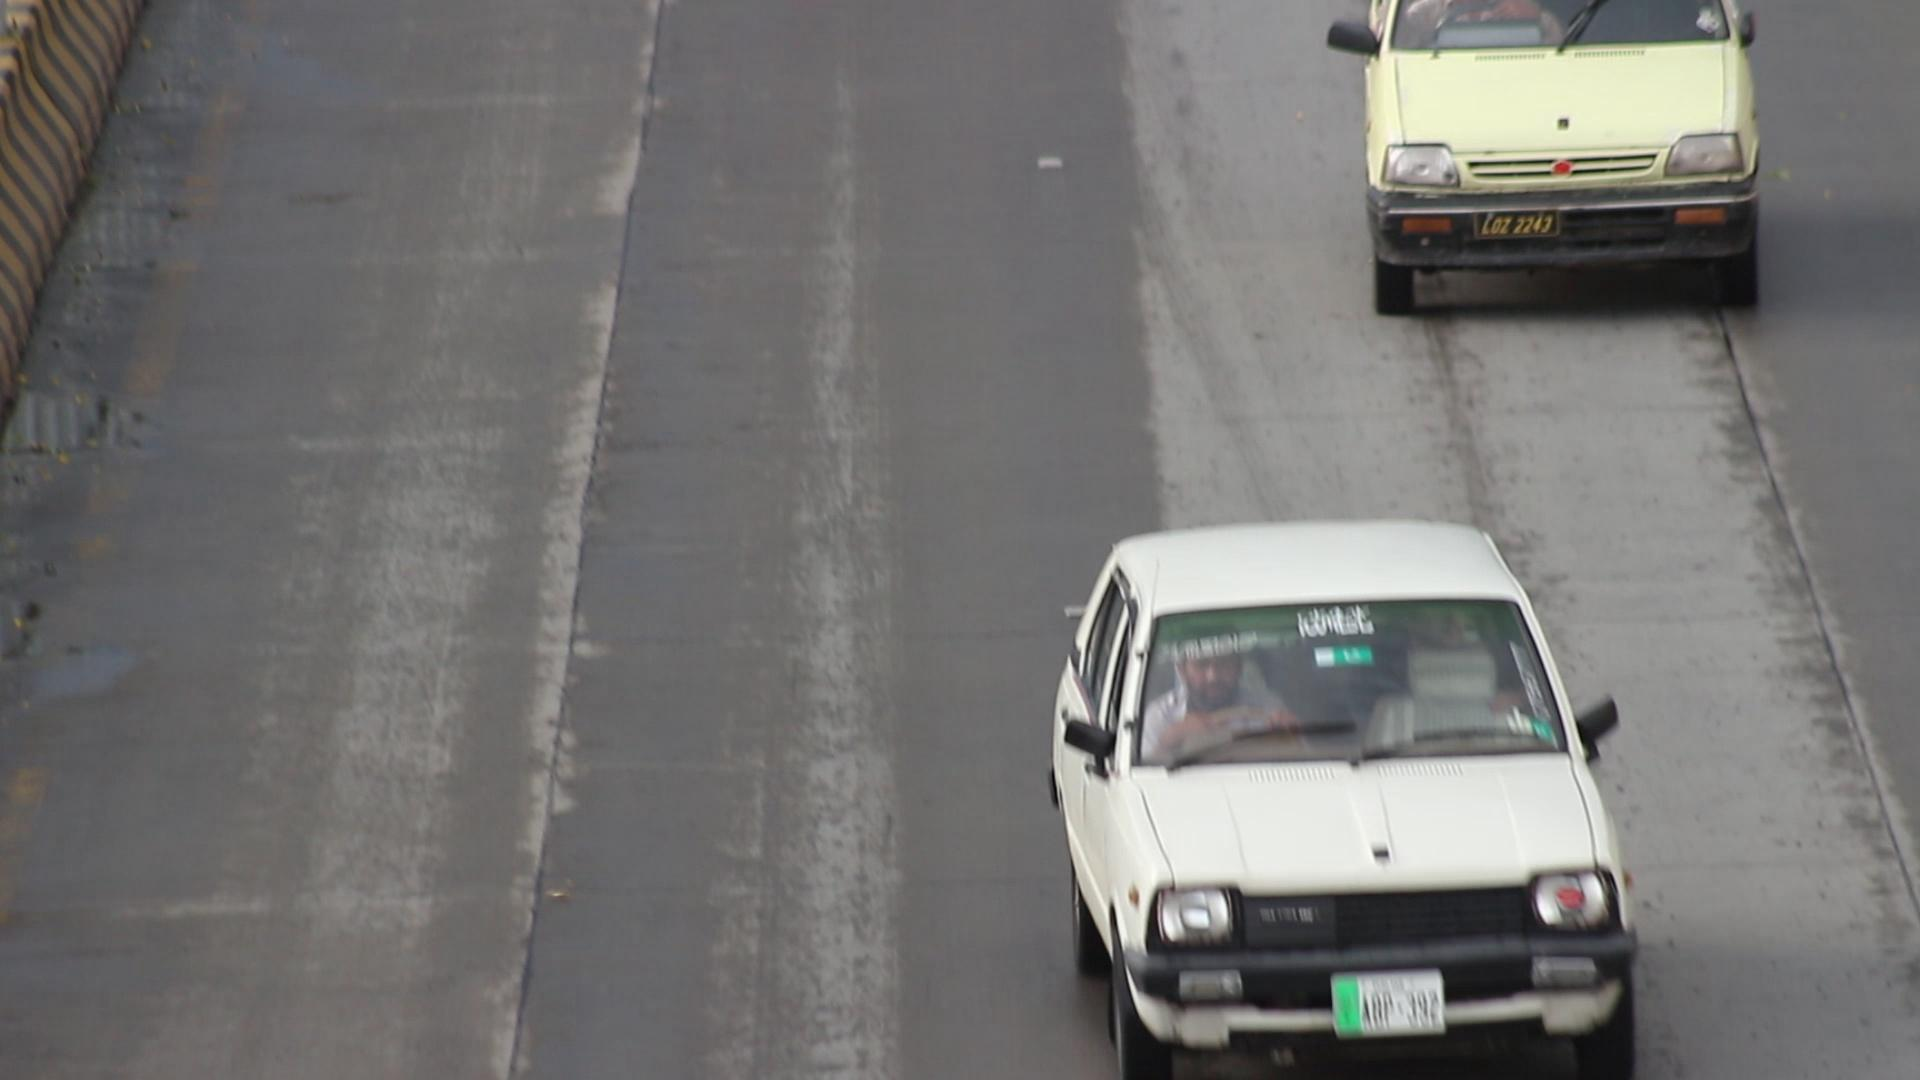windshield: (1127, 587, 1597, 777)
